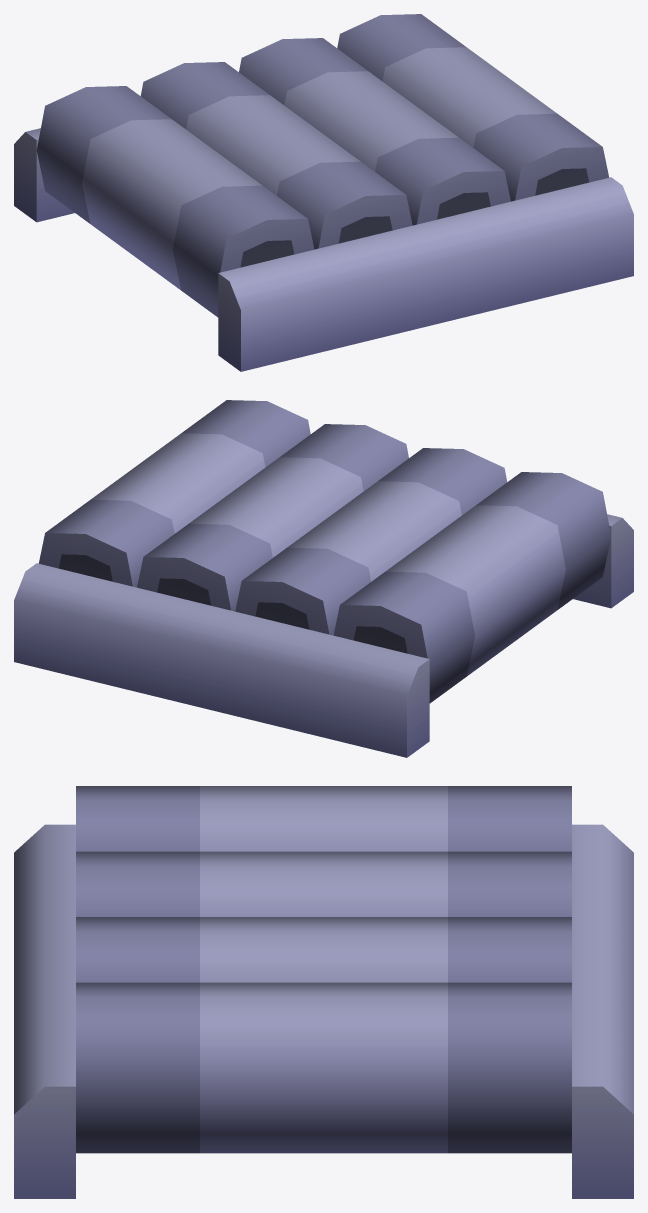
File: kenney-factory-conveyor-bars-stripe-side.glb
3 renders of one model, top to bottom at view 1: azimuth 30°, elevation 25°; view 2: azimuth 150°, elevation 25°; view 3: azimuth 270°, elevation 25°, orthographic. The views are drawn at different scales.
Visible parts, largest first — view 1: conveyor-bars-stripe-side; view 2: conveyor-bars-stripe-side; view 3: conveyor-bars-stripe-side.
Part boxes in pixels (x1,y1,x2,y2): conveyor-bars-stripe-side: [14, 14, 633, 371]; conveyor-bars-stripe-side: [14, 400, 633, 757]; conveyor-bars-stripe-side: [14, 786, 633, 1198].
Bounding box in the file's own units: 1 × 0.3 × 1.
Materials: 1 (1 with a texture image).
